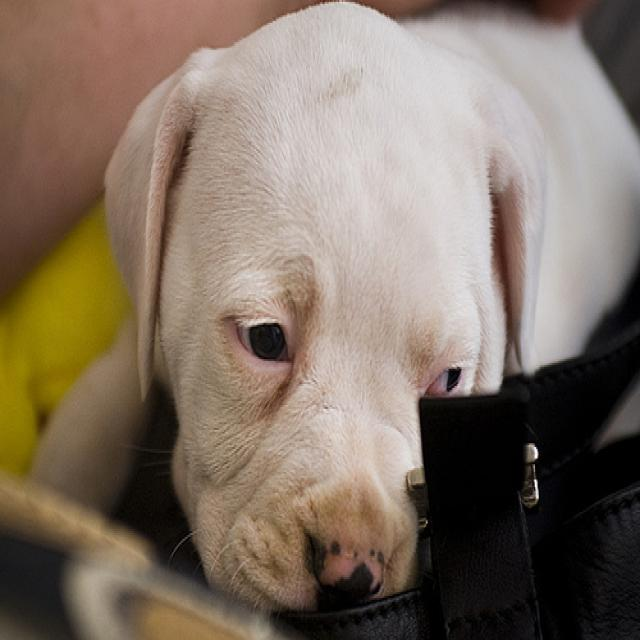dog-american_bulldog: (38, 2, 637, 615)
